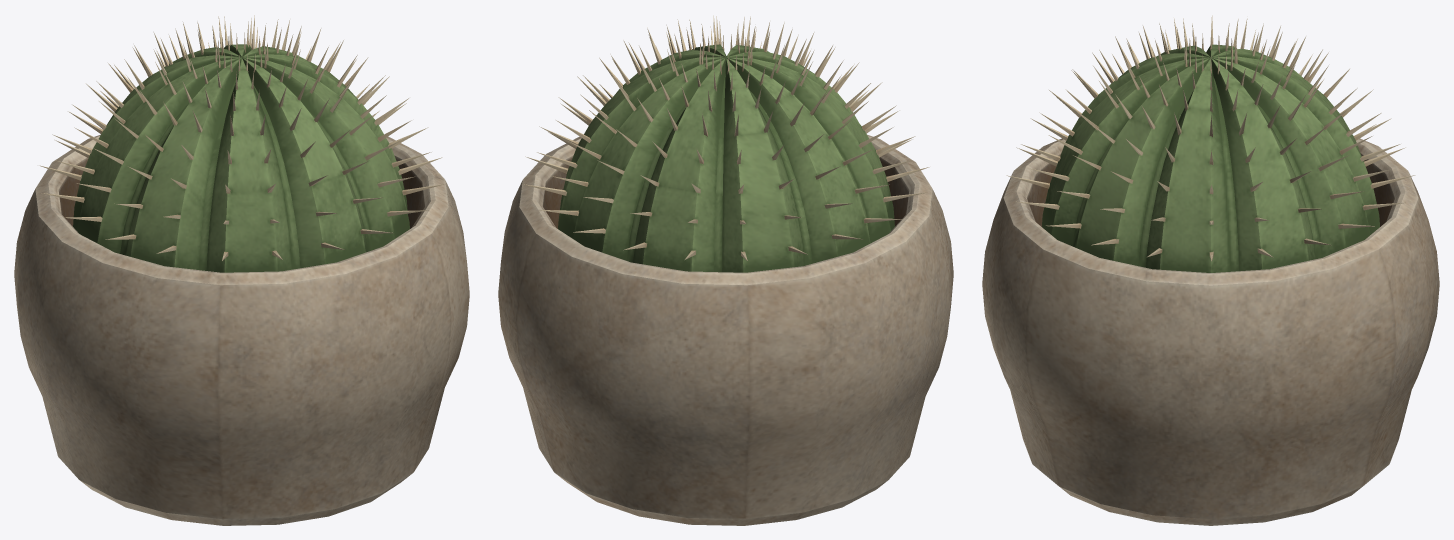
Rendered from mini_cactus.glb.
3 renders of one model, left to right at view 1: azimuth 30°, elevation 25°; view 2: azimuth 150°, elevation 25°; view 3: azimuth 270°, elevation 25°, orthographic.
Parts seen in each view (by area): view 1: Cacti; view 2: Cacti; view 3: Cacti.
Boxes of the visible parts, x1,y1,x2,y2 form: Cacti: (14, 15, 469, 525); Cacti: (498, 15, 953, 525); Cacti: (982, 15, 1439, 525).
Size of the model in its own units: 11.92 by 12.18 by 11.92.
Materials: 1 (1 with a texture image).
